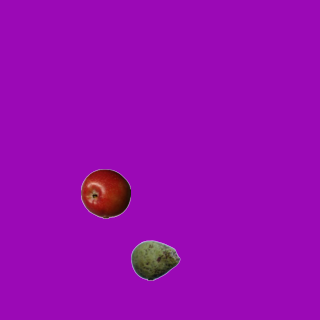Apple Braeburn: (80, 168, 130, 218)
Pear Stone: (130, 235, 180, 285)
